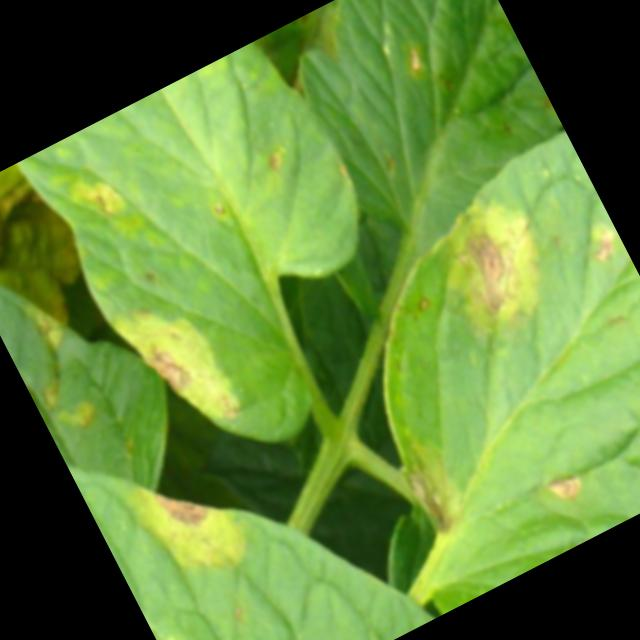Early_blight: (430, 193, 563, 334), (399, 451, 466, 538), (152, 464, 230, 537), (135, 329, 196, 401), (75, 169, 128, 222), (542, 464, 591, 508), (581, 224, 627, 270), (27, 301, 69, 345), (212, 385, 248, 424)
